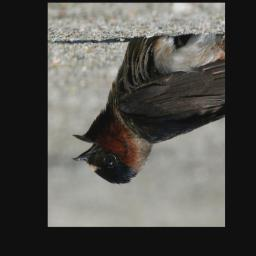Swallow: (70, 31, 225, 185)
